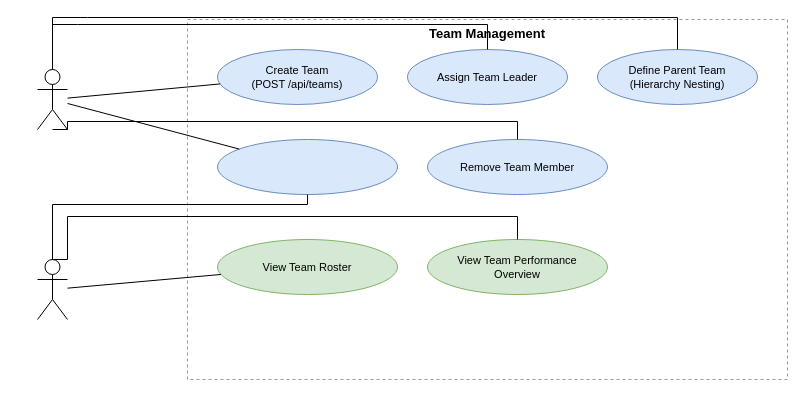
Some shapes in this 805 by 397 pixel diagram are drawn without their labels. Here are the shapes that lost their labels. From the top down, the centre of each, then its label:
At point (52, 99): "Admin".
At point (307, 166): "Add Team Member (POST /api/team-members)".
At point (52, 289): "Team Leader".
